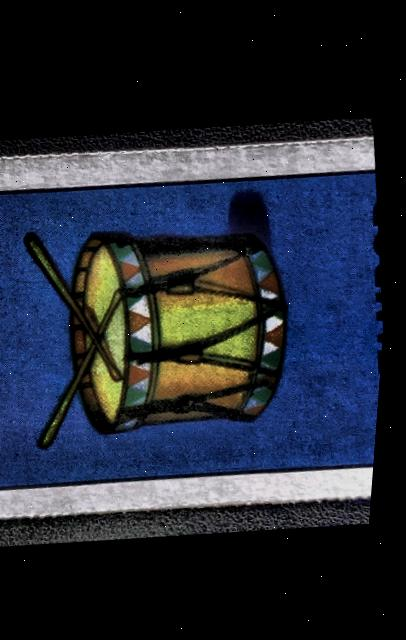El Tambor: (0, 130, 398, 515)
